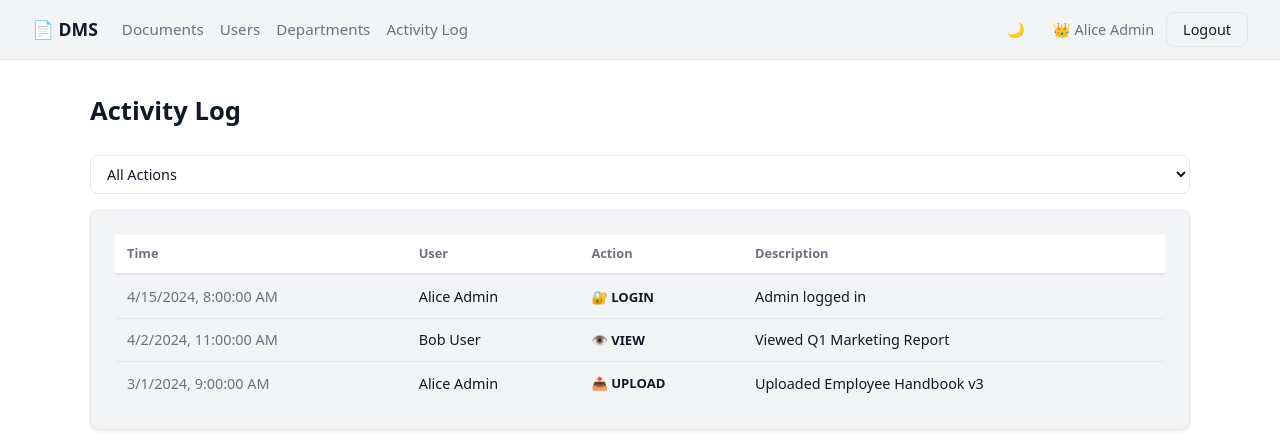
Test: Admin Activity Log Page › filters by action type
The image size is (1280, 448).
Select "LOGIN" in the dropdown. click: [640, 175]
box: [90,155,1190,194]
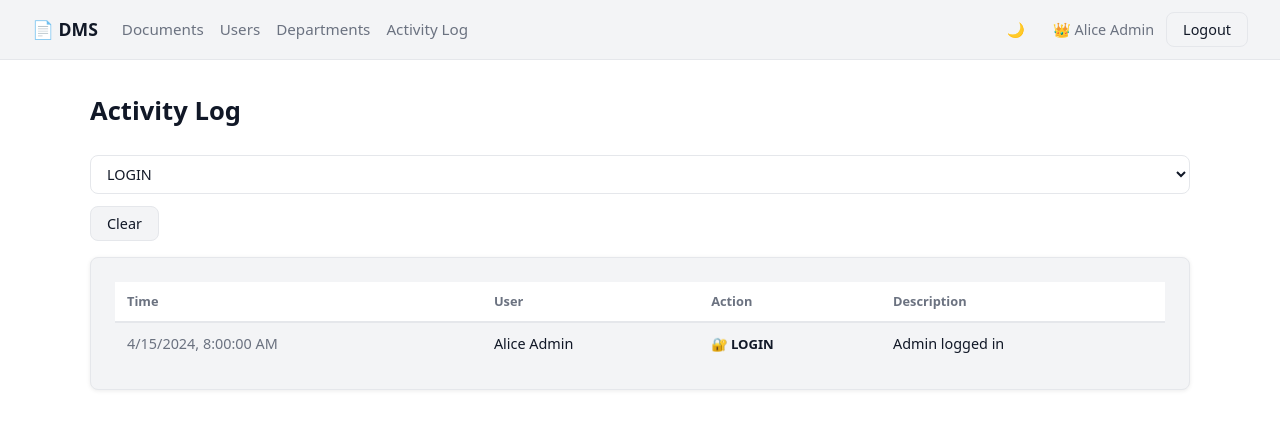
Check: the text "Admin logged in" is shown, box [881,322,1165,365]
Check: the text "Uploaded Employee Handbook v3" is gone
